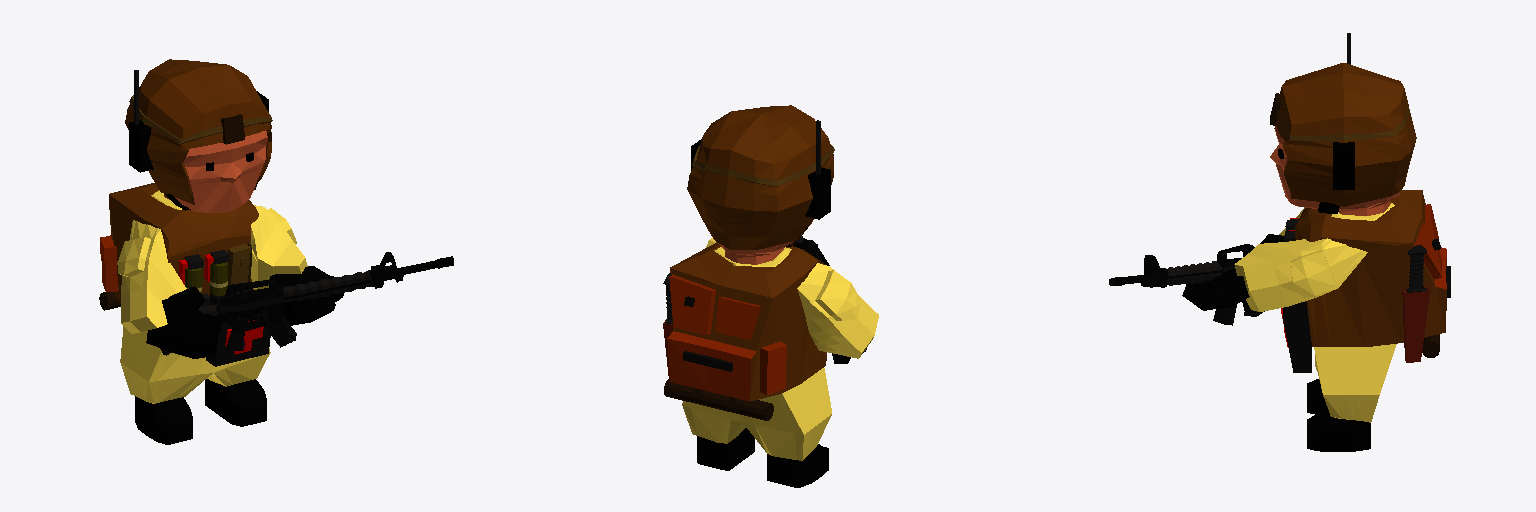
File: doctor.obj
3 renders of one model, left to right at view 1: azimuth 30°, elevation 25°; view 2: azimuth 150°, elevation 25°; view 3: azimuth 270°, elevation 25°, orthographic.
Visible parts, largest first — view 1: Cube.1006_Cube.3232; view 2: Cube.1006_Cube.3232; view 3: Cube.1006_Cube.3232.
Part boxes in pixels (left/top/right/bottom): Cube.1006_Cube.3232: left=99, top=59, right=453, bottom=444; Cube.1006_Cube.3232: left=663, top=105, right=878, bottom=487; Cube.1006_Cube.3232: left=1109, top=33, right=1450, bottom=451.
Size of the model in its own units: 0.5452 by 0.8102 by 0.6938.